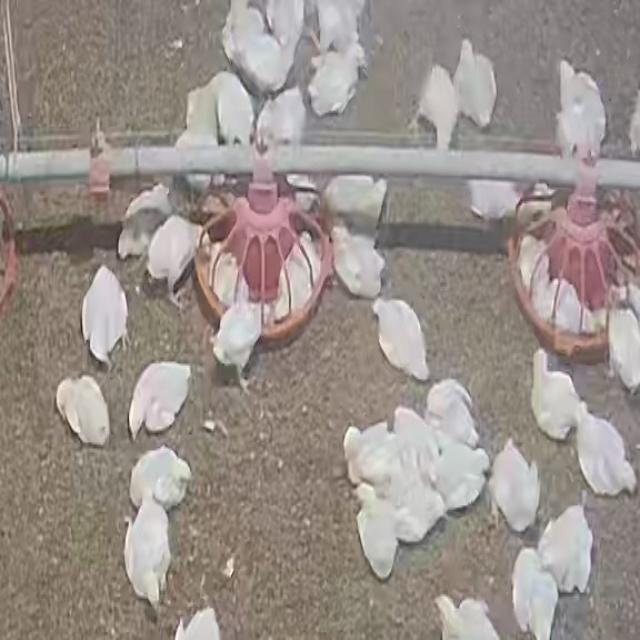chicken: (575, 401, 637, 497), (122, 496, 174, 609), (482, 438, 539, 532), (539, 502, 596, 595), (212, 285, 262, 389), (510, 544, 564, 640), (144, 214, 200, 306), (372, 297, 430, 382), (388, 399, 451, 477), (128, 361, 191, 439), (81, 264, 129, 366), (387, 469, 452, 541), (559, 54, 603, 157), (532, 346, 576, 442), (306, 46, 365, 117), (128, 446, 190, 512), (355, 482, 397, 579), (118, 182, 170, 260), (56, 375, 111, 447), (255, 85, 310, 156), (413, 64, 458, 149), (320, 174, 388, 230), (595, 306, 640, 390), (330, 228, 384, 298), (274, 235, 317, 322), (434, 444, 489, 510), (337, 422, 397, 481), (426, 380, 482, 442), (176, 78, 223, 150), (457, 40, 497, 122), (434, 594, 504, 640), (310, 0, 364, 58), (224, 0, 271, 66), (463, 176, 531, 220), (216, 72, 256, 146), (538, 285, 593, 332), (265, 0, 306, 56), (210, 244, 245, 305), (514, 184, 556, 232), (172, 608, 224, 640), (516, 235, 540, 302), (284, 174, 318, 214), (529, 261, 553, 313)
